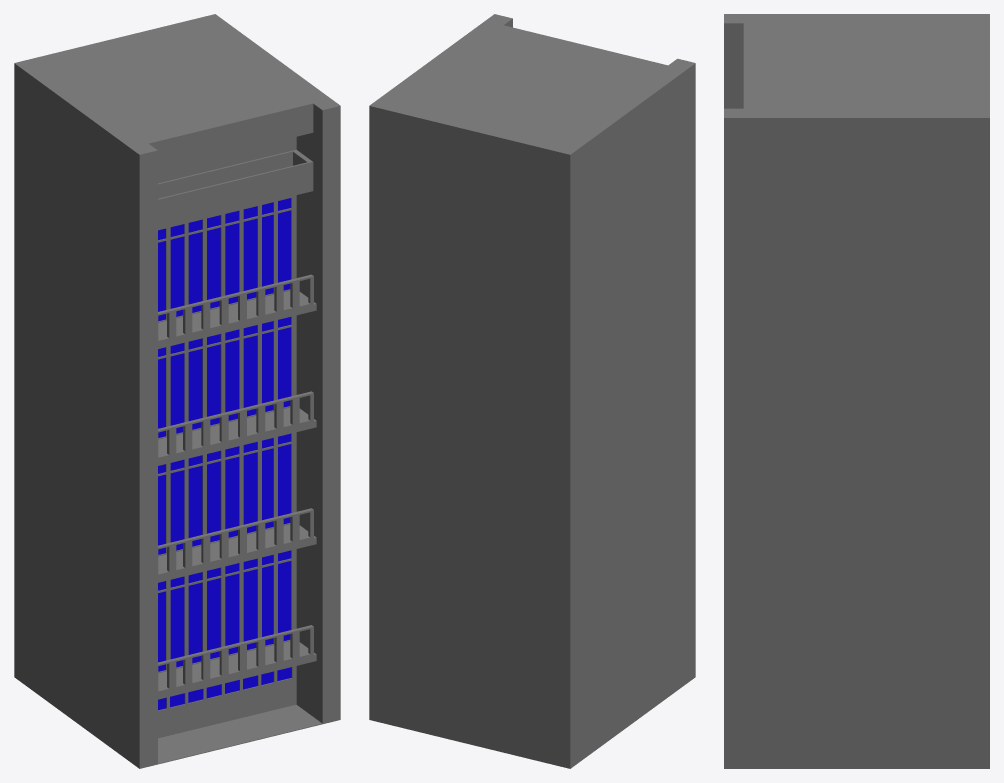
The model's file is 300YenShop.FBX.
3 views of the same model, side by side, from view 1: azimuth 30°, elevation 25°; view 2: azimuth 150°, elevation 25°; view 3: azimuth 270°, elevation 25° (orthographic). The views are drawn at different scales.
Visible parts, largest first — view 1: Building; view 2: Building; view 3: Building.
Boxes of the visible parts, x1=… form: Building: x1=14, y1=14, x2=340, y2=768; Building: x1=369, y1=14, x2=695, y2=768; Building: x1=724, y1=14, x2=989, y2=768.
Bounding box in the file's own units: 22.13 × 64.57 × 23.91.
